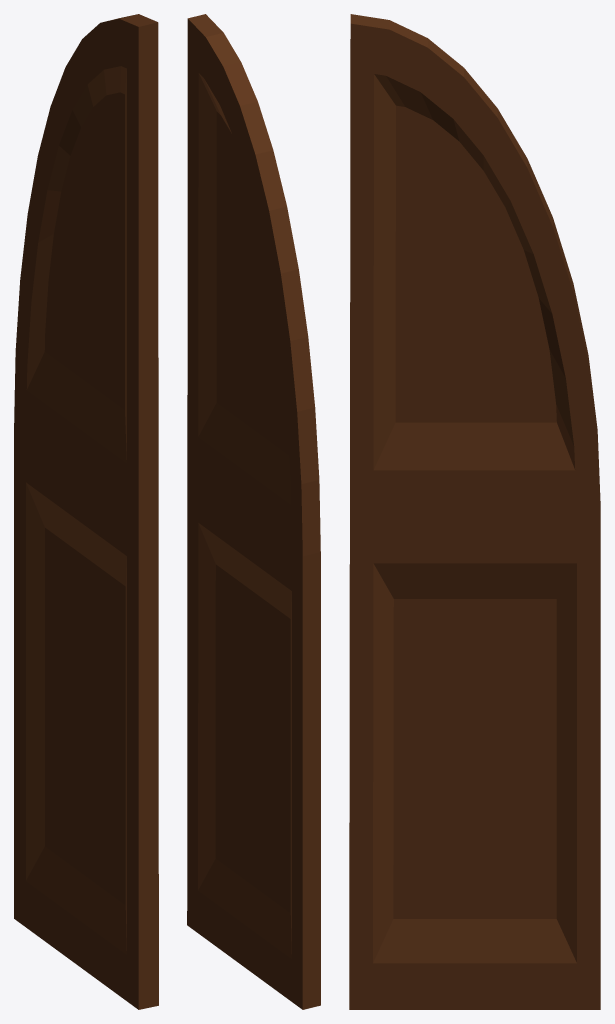
The model's file is mansion_door.glb.
3 views of the same model, side by side, from view 1: azimuth 30°, elevation 25°; view 2: azimuth 210°, elevation 25°; view 3: azimuth 270°, elevation 25° (orthographic). The views are drawn at different scales.
Parts seen in each view (by area): view 1: door_right; view 2: door_right; view 3: door_right.
Part boxes in pixels (<box>): door_right: <box>14,14,158,1009</box>; door_right: <box>187,14,320,1009</box>; door_right: <box>349,14,600,1009</box>.
Size of the model in its own units: 0.0904 by 4.35 by 1.01.
